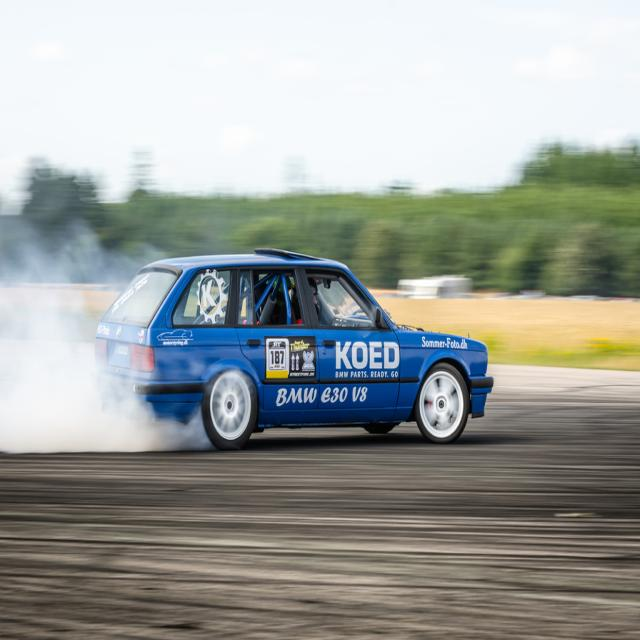car: (82, 249, 502, 460)
